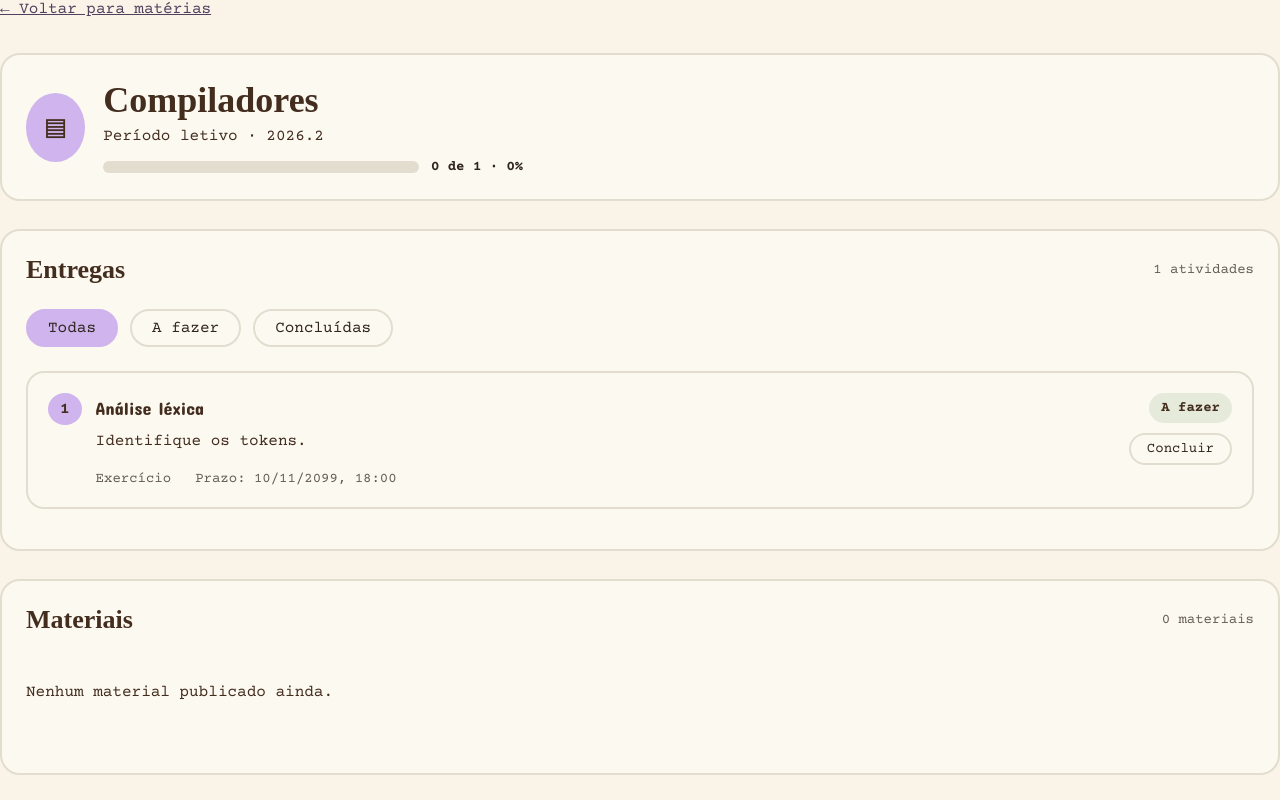
Test: Concluir e desfazer uma entrega › volta ao estado anterior e avisa quando a API recusa
This screenshot has width=1280, height=800.
Step 1. Click the button with aria-label "Concluir Análise léxica" → (1180, 449), box top-left (1129, 433), bottom-right (1232, 465)
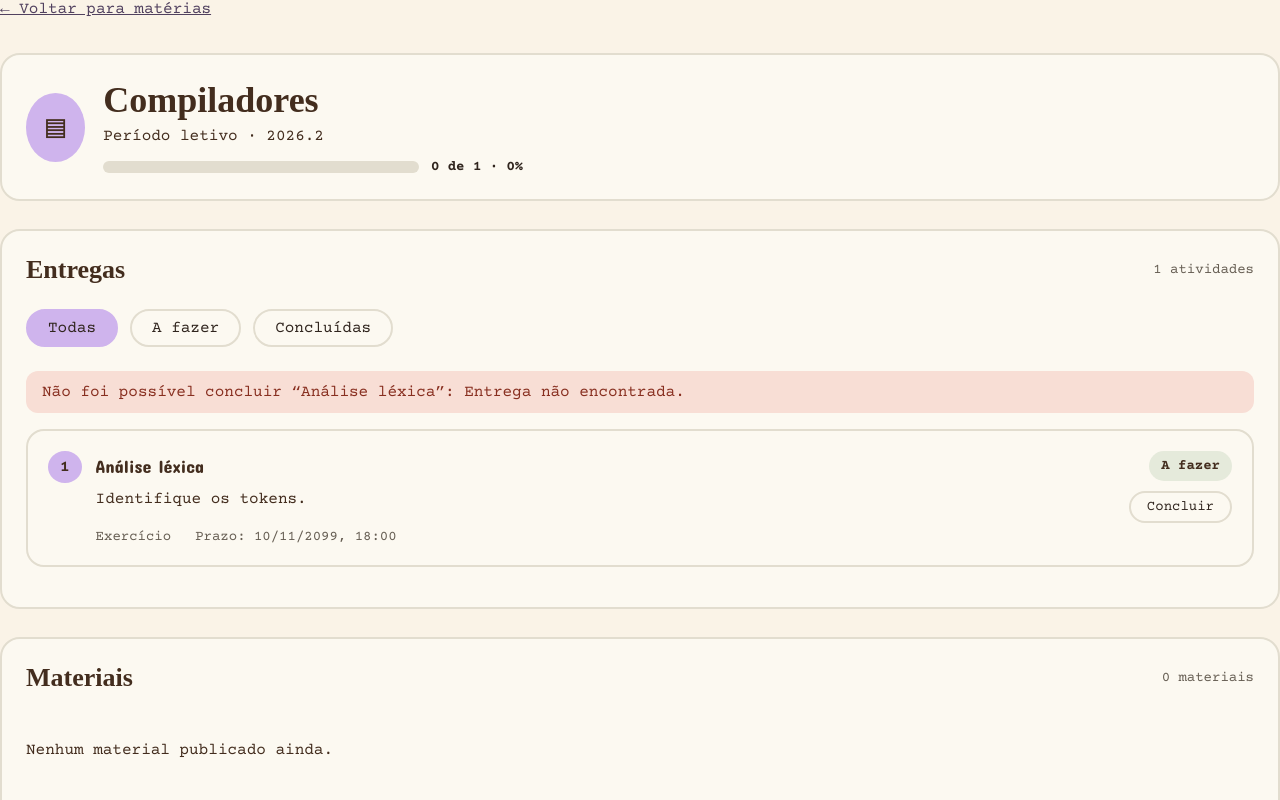
Expected: the text "A fazer" is shown, top-left (1149, 451), bottom-right (1232, 481)
Now the message reads "Não foi possível concluir “Análise léxica”: Entrega não encontrada.", box top-left (42, 383), bottom-right (685, 401)
